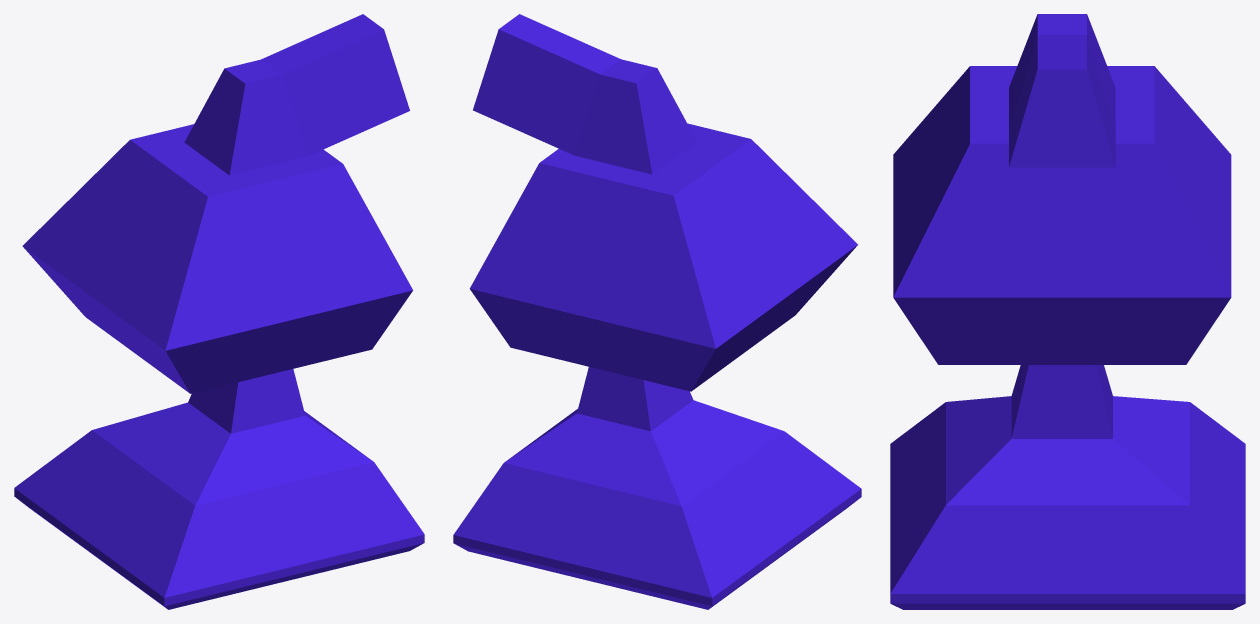
3 views of the same model, side by side, from view 1: azimuth 30°, elevation 25°; view 2: azimuth 150°, elevation 25°; view 3: azimuth 270°, elevation 25° (orthographic). The views are drawn at different scales.
Parts seen in each view (by area): view 1: Patience; view 2: Patience; view 3: Patience.
Boxes of the visible parts, x1,y1,x2,y2 form: Patience: (14,14,424,609); Patience: (453,14,861,609); Patience: (890,14,1245,609).
Bounding box in the file's own units: 2273 × 3470 × 2000.
